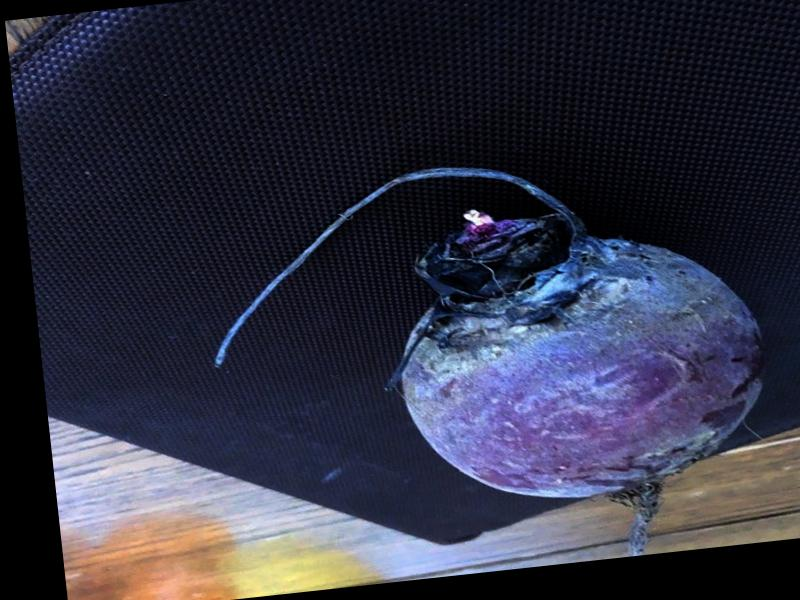Beet: (195, 134, 785, 597)
